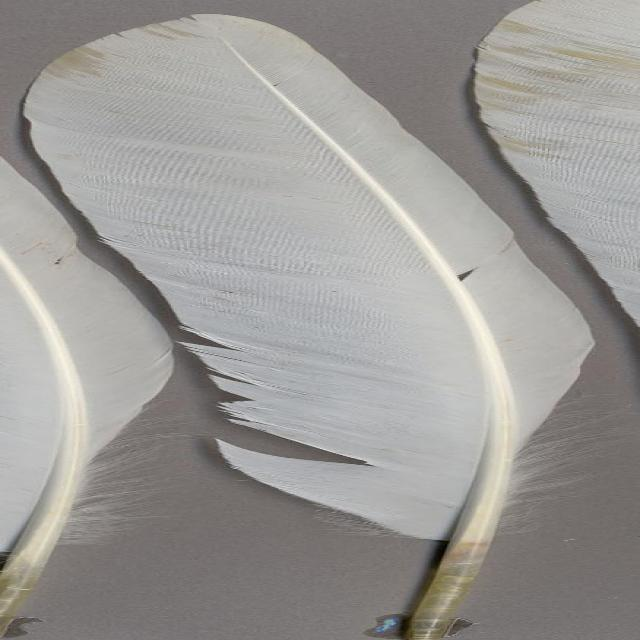feather: (0, 10, 614, 640), (0, 162, 197, 640)
